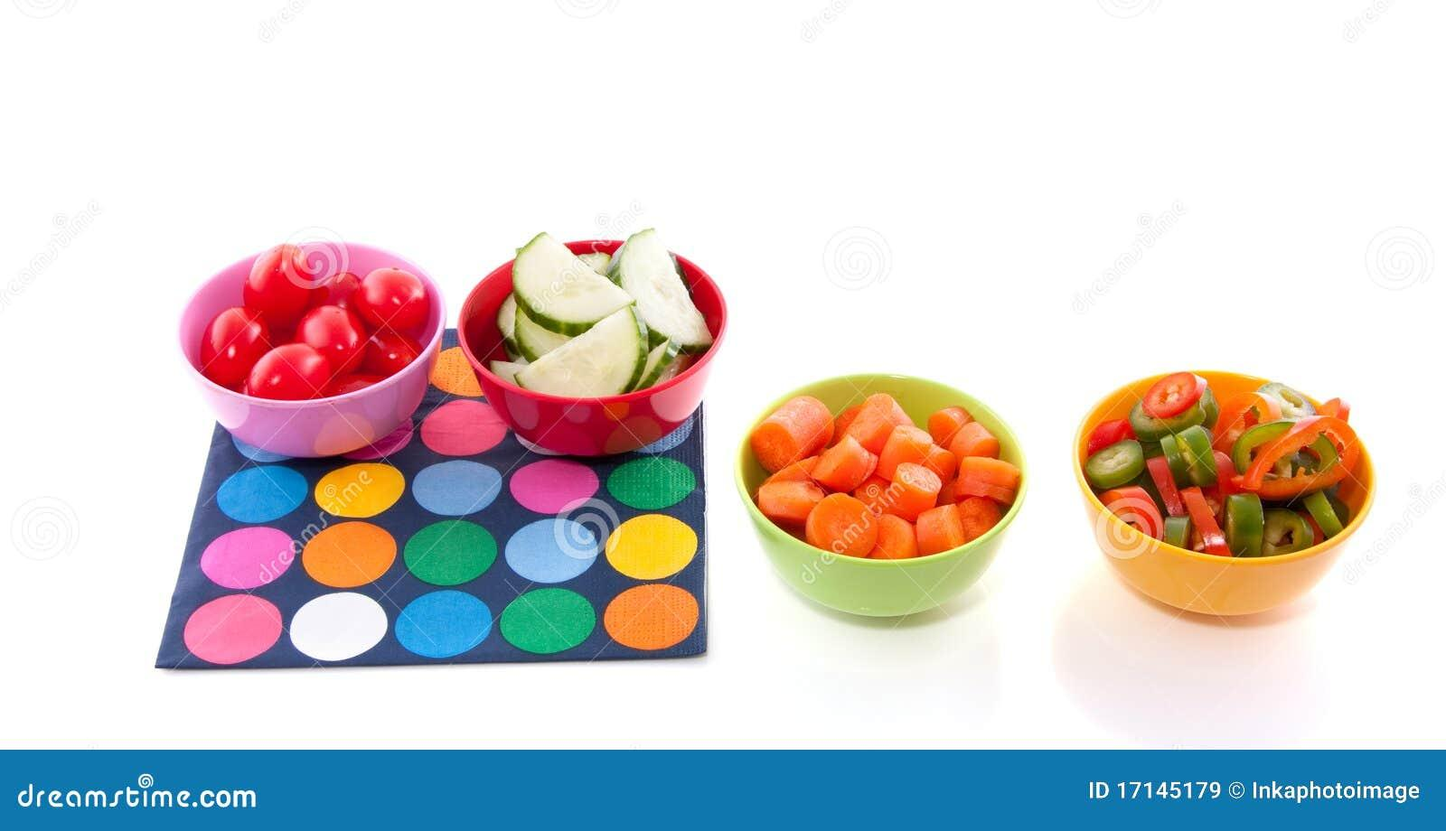carrot: (758, 419, 1001, 598)
tomato: (197, 232, 434, 413)
